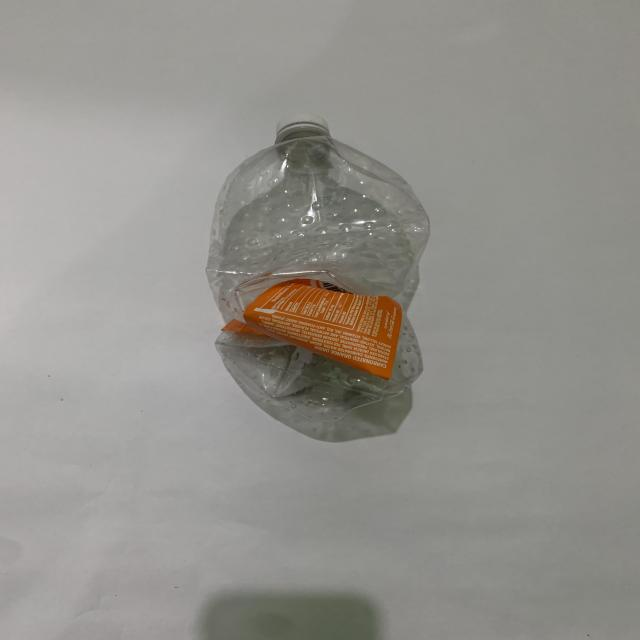bottle: (201, 108, 436, 414)
